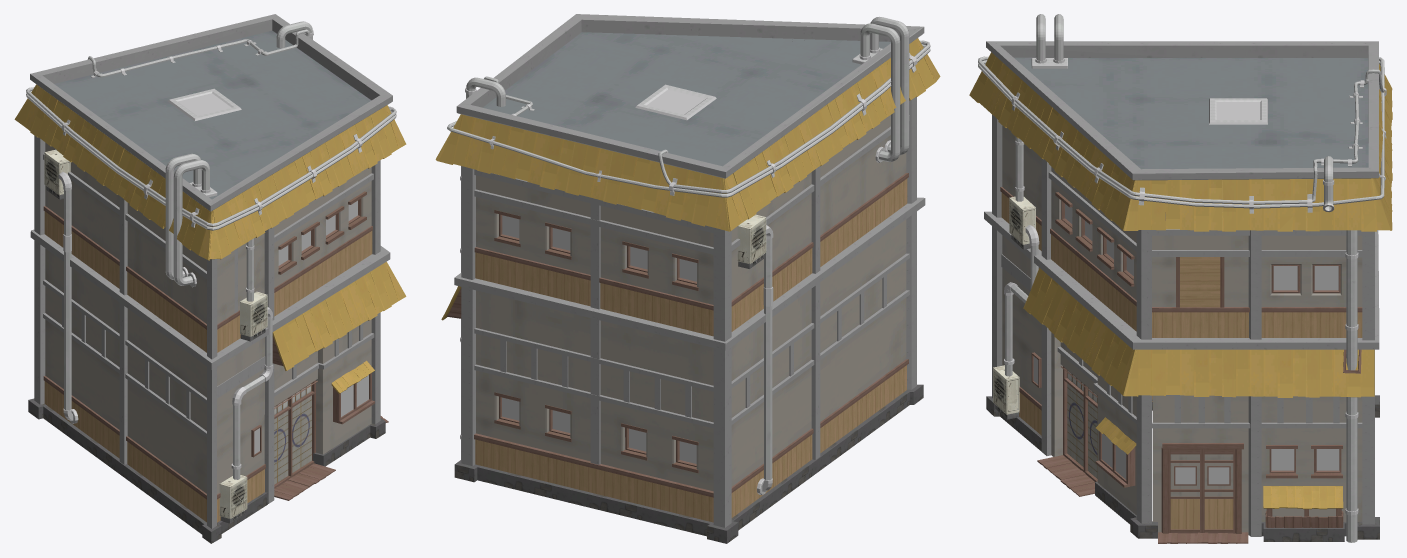
The model's file is SM_ENV_KNVLLG_AreaG_Building_H.fbx.
3 renders of one model, left to right at view 1: azimuth 30°, elevation 25°; view 2: azimuth 150°, elevation 25°; view 3: azimuth 270°, elevation 25°, orthographic. The views are drawn at different scales.
Parts seen in each view (by area): view 1: SM_ENV_KNVLLG_AreaG_Building_H.mo; view 2: SM_ENV_KNVLLG_AreaG_Building_H.mo; view 3: SM_ENV_KNVLLG_AreaG_Building_H.mo.
Boxes of the visible parts, x1,y1,x2,y2 form: SM_ENV_KNVLLG_AreaG_Building_H.mo: (14,14,406,543); SM_ENV_KNVLLG_AreaG_Building_H.mo: (435,14,940,543); SM_ENV_KNVLLG_AreaG_Building_H.mo: (969,14,1392,543).
Size of the model in its own units: 2187 by 2767 by 2697.
